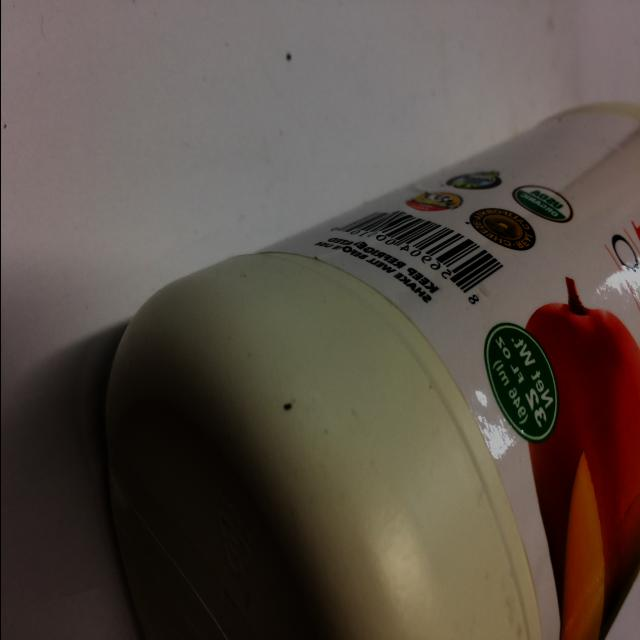Plastic: (92, 82, 640, 640)
